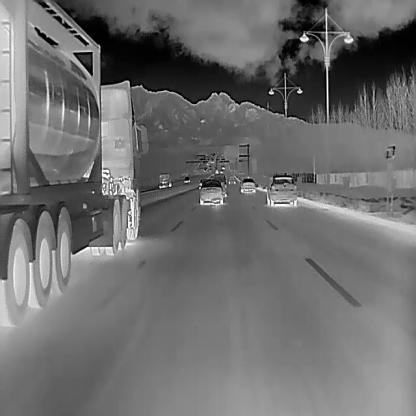car: (266, 174, 297, 206), (198, 178, 223, 205), (212, 172, 227, 196), (238, 176, 254, 192), (228, 172, 235, 184), (182, 175, 190, 183), (203, 166, 207, 171), (221, 165, 224, 169)
truck: (0, 0, 148, 328), (158, 171, 171, 188)
